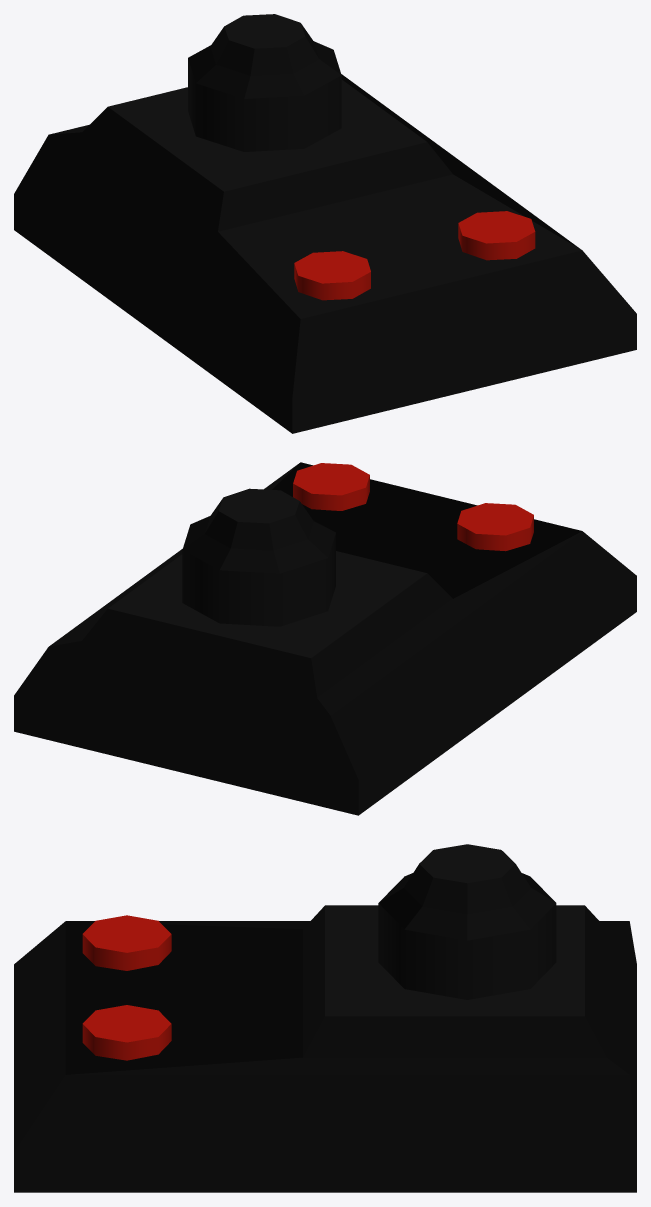
File: Joystick.obj
3 renders of one model, top to bottom at view 1: azimuth 30°, elevation 25°; view 2: azimuth 150°, elevation 25°; view 3: azimuth 270°, elevation 25°, orthographic. The views are drawn at different scales.
Visible parts, largest first — view 1: JoystickBase, Cylinder (2), Cylinder (1), Cylinder; view 2: JoystickBase, Cylinder (2), Cylinder, Cylinder (1); view 3: JoystickBase, Cylinder (2), Cylinder (1), Cylinder.
Boxes of the visible parts, bbox=[...] form: JoystickBase: bbox=[14, 74, 636, 433]; Cylinder (2): bbox=[188, 14, 341, 151]; Cylinder (1): bbox=[458, 211, 535, 260]; Cylinder: bbox=[294, 251, 370, 300]; JoystickBase: bbox=[14, 462, 636, 815]; Cylinder (2): bbox=[182, 488, 335, 626]; Cylinder: bbox=[457, 503, 533, 551]; Cylinder (1): bbox=[293, 463, 369, 510]; JoystickBase: bbox=[14, 905, 636, 1192]; Cylinder (2): bbox=[378, 844, 556, 999]; Cylinder (1): bbox=[82, 1005, 171, 1060]; Cylinder: bbox=[82, 915, 171, 970].
Bounding box in the file's own units: 0.1 × 0.0586 × 0.14.
